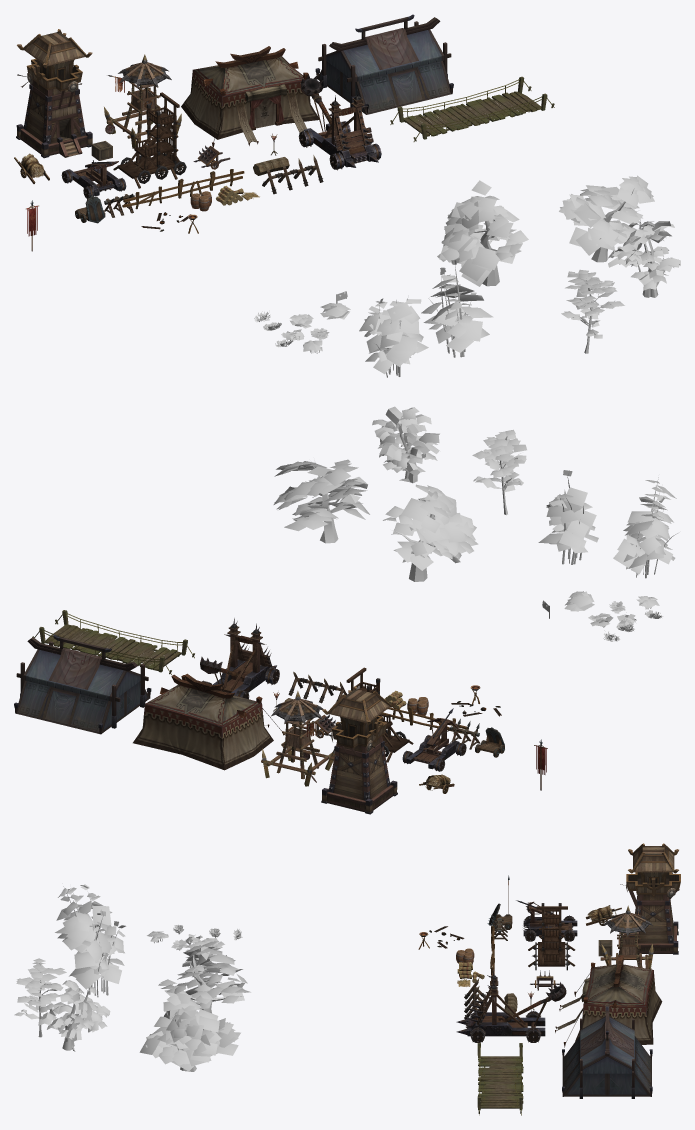
File: s7_3d_new_pve201_wujian001.FBX
3 views of the same model, one above another, from view 1: azimuth 30°, elevation 25°; view 2: azimuth 150°, elevation 25°; view 3: azimuth 270°, elevation 25° (orthographic). The views are drawn at different scales.
Visible parts, largest first — view 1: s7_3d_new_pve201_zhangpeng002, s7_3d_new_pve201_zhangpeng001, s7_3d_new_pve201_jiantai001, s7_3d_new_pve201_dashu002, s7_3d_new_pve201_dashu004, s7_3d_new_pve201_diaoqiao01, s7_3d_new_pve201_toushiche001, s7_3d_new_pve201_zhuzi002, s7_3d_new_pve201_dengchengche001, s7_3d_new_pve201_zhuzi001, s7_3d_new_pve201_dashu001, s7_3d_new_pve201_liaowangtai001 (+5 smaller); view 2: s7_3d_new_pve201_zhangpeng002, s7_3d_new_pve201_zhangpeng001, s7_3d_new_pve201_jiantai001, s7_3d_new_pve201_dashu002, s7_3d_new_pve201_dashu004, s7_3d_new_pve201_diaoqiao01, s7_3d_new_pve201_dashu001, s7_3d_new_pve201_zhuzi002, s7_3d_new_pve201_toushiche001, s7_3d_new_pve201_liaowangtai001, s7_3d_new_pve201_zhuzi001, s7_3d_new_pve201_dashu003 (+2 smaller); view 3: s7_3d_new_pve201_zhangpeng002, s7_3d_new_pve201_zhangpeng001, s7_3d_new_pve201_dashu004, s7_3d_new_pve201_jiantai001, s7_3d_new_pve201_dashu002, s7_3d_new_pve201_toushiche001, s7_3d_new_pve201_diaoqiao01, s7_3d_new_pve201_zhuzi001, s7_3d_new_pve201_dashu001, s7_3d_new_pve201_zhuzi002, s7_3d_new_pve201_dashu003, s7_3d_new_pve201_dengchengche001 (+3 smaller).
Boxes of the visible parts, x1,y1,x2,y2 form: s7_3d_new_pve201_zhangpeng002: (315,14,453,114); s7_3d_new_pve201_zhangpeng001: (181,46,331,147); s7_3d_new_pve201_jiantai001: (16,29,92,158); s7_3d_new_pve201_dashu002: (437,180,528,286); s7_3d_new_pve201_dashu004: (559,175,654,262); s7_3d_new_pve201_diaoqiao01: (390,76,554,141); s7_3d_new_pve201_toushiche001: (298,74,381,170); s7_3d_new_pve201_zhuzi002: (359,298,428,377); s7_3d_new_pve201_dengchengche001: (113,92,186,188); s7_3d_new_pve201_zhuzi001: (421,258,493,357); s7_3d_new_pve201_dashu001: (608,219,680,297); s7_3d_new_pve201_liaowangtai001: (104,54,181,148); s7_3d_new_pve201_zhangpeng002: (14,634,151,734); s7_3d_new_pve201_zhangpeng001: (133,673,285,770); s7_3d_new_pve201_jiantai001: (321,686,397,814); s7_3d_new_pve201_dashu002: (383,484,478,581); s7_3d_new_pve201_dashu004: (273,459,369,543); s7_3d_new_pve201_diaoqiao01: (32,610,194,674); s7_3d_new_pve201_dashu001: (372,406,439,483); s7_3d_new_pve201_zhuzi002: (613,477,677,578); s7_3d_new_pve201_toushiche001: (200,618,279,699); s7_3d_new_pve201_liaowangtai001: (261,691,335,786); s7_3d_new_pve201_zhuzi001: (538,470,598,564); s7_3d_new_pve201_dashu003: (472,429,526,514); s7_3d_new_pve201_zhangpeng002: (562,1004,652,1098); s7_3d_new_pve201_zhangpeng001: (555,955,662,1047); s7_3d_new_pve201_dashu004: (139,993,240,1071); s7_3d_new_pve201_jiantai001: (620,843,680,954); s7_3d_new_pve201_dashu002: (158,941,250,1029); s7_3d_new_pve201_toushiche001: (456,969,566,1042); s7_3d_new_pve201_diaoqiao01: (477,1043,523,1115); s7_3d_new_pve201_zhuzi001: (69,910,125,997); s7_3d_new_pve201_dashu001: (38,980,110,1051); s7_3d_new_pve201_zhuzi002: (55,884,114,954); s7_3d_new_pve201_dashu003: (14,958,66,1037); s7_3d_new_pve201_dengchengche001: (528,903,575,970).
Bounding box in the file's own units: 36.91 × 9.06 × 46.1.
